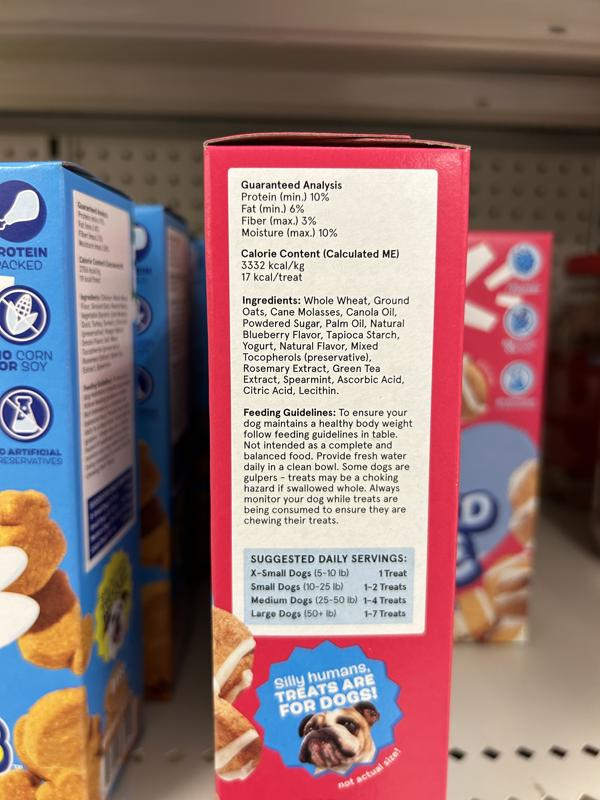ingredients: (241, 295, 411, 396)
